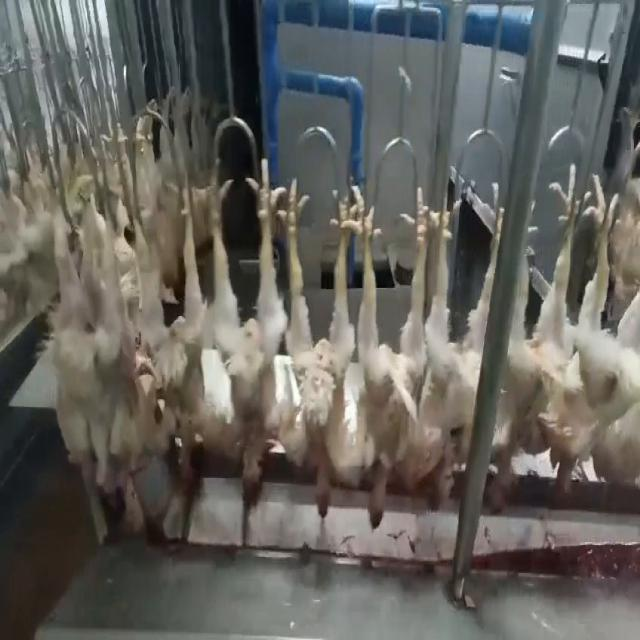chicken: (484, 154, 587, 518), (404, 160, 503, 516), (350, 170, 436, 536), (46, 179, 138, 513), (204, 136, 284, 520), (135, 145, 214, 498), (280, 173, 350, 527), (580, 154, 639, 475)
